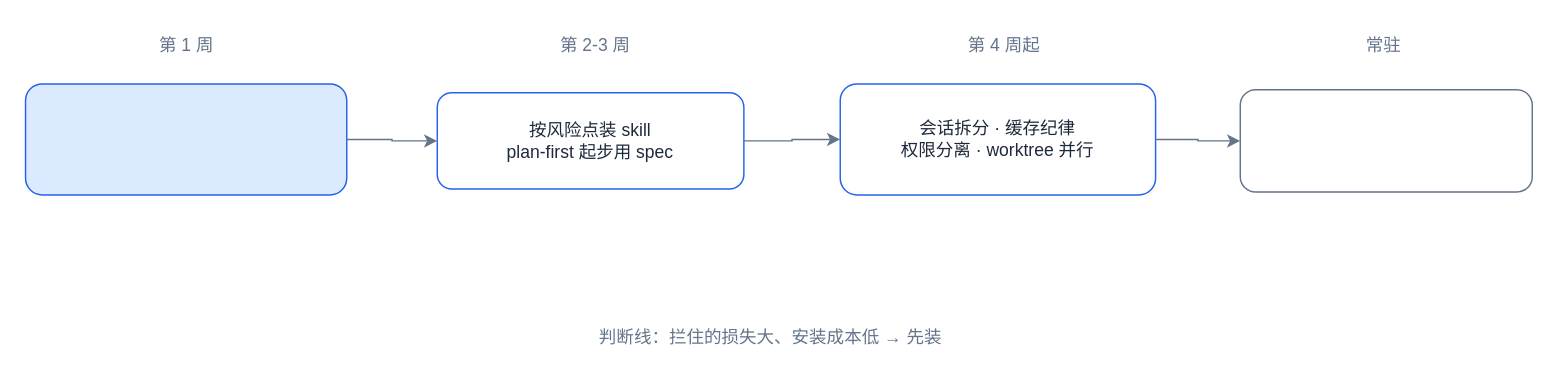
Image size: 1558x385. Some labels were removed from this diagram. The box of each missing label's shape, as (x1, y1, x2, y2) in pixels:
AGENTS.md 骨架 + 最小门禁（禁 skip、禁占位）: (24, 82, 347, 195)
事故回写手册 门禁配哨兵 · 夜间自治逐步开: (1239, 88, 1532, 192)
